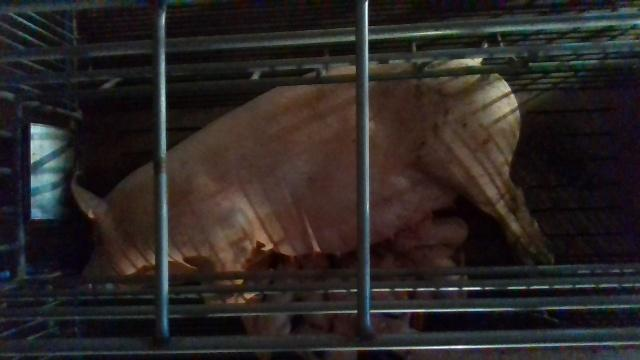piglet: (410, 245, 469, 299), (384, 216, 468, 250), (257, 262, 296, 334), (291, 325, 358, 360)
sow-sleep-lactate: (69, 57, 552, 304)
